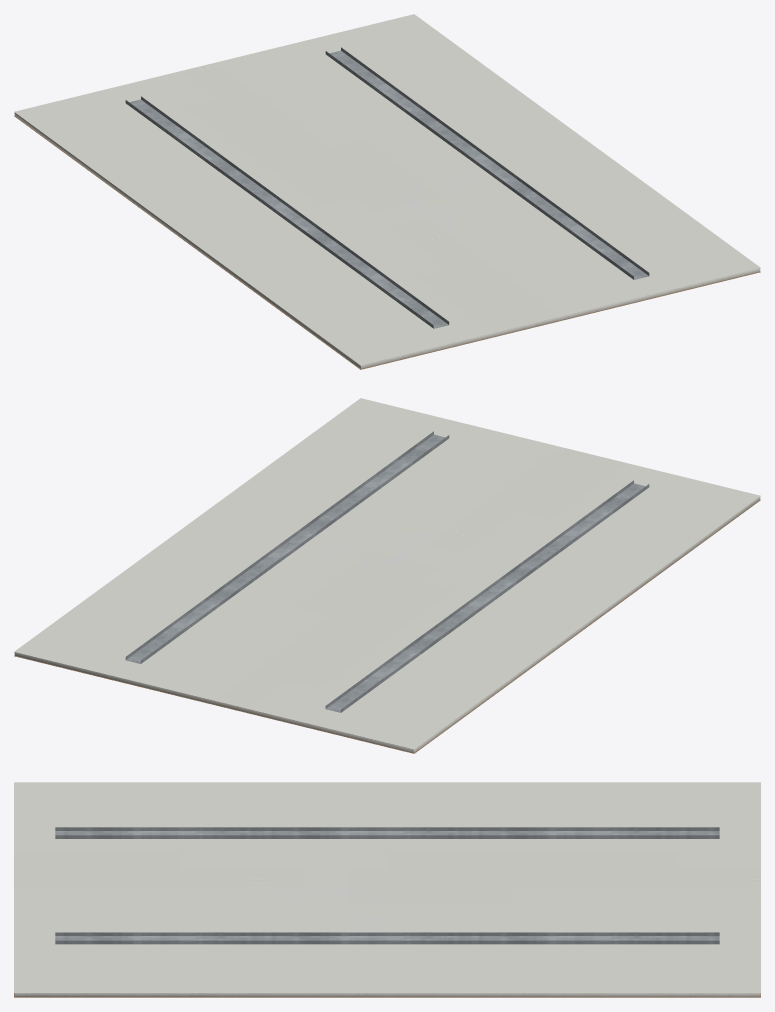
Rendered from REV-FOR-001_lod1.glb.
The picture shows the model from 3 angles, top to bottom: view 1: azimuth 30°, elevation 25°; view 2: azimuth 150°, elevation 25°; view 3: azimuth 270°, elevation 25°; orthographic projection. The views are drawn at different scales.
Parts seen in each view (by area): view 1: REV-FOR-001_face, REV-FOR-001, REV-FOR-001_miolo, REV-FOR-001_verso; view 2: REV-FOR-001_face, REV-FOR-001, REV-FOR-001_miolo, REV-FOR-001_verso; view 3: REV-FOR-001_face, REV-FOR-001, REV-FOR-001_miolo, REV-FOR-001_verso.
Part boxes in pixels (x1,y1,x2,y2): REV-FOR-001_face: [14, 14, 760, 365]; REV-FOR-001: [125, 47, 649, 328]; REV-FOR-001_miolo: [14, 113, 760, 368]; REV-FOR-001_verso: [14, 115, 760, 369]; REV-FOR-001_face: [14, 398, 760, 749]; REV-FOR-001: [125, 431, 649, 712]; REV-FOR-001_miolo: [14, 497, 760, 752]; REV-FOR-001_verso: [14, 499, 760, 753]; REV-FOR-001_face: [14, 782, 760, 992]; REV-FOR-001: [55, 827, 719, 944]; REV-FOR-001_miolo: [14, 993, 760, 996]; REV-FOR-001_verso: [14, 993, 760, 997].
Size of the model in its own units: 1.2 by 0.0225 by 1.8.
4 materials, 4 textured.
